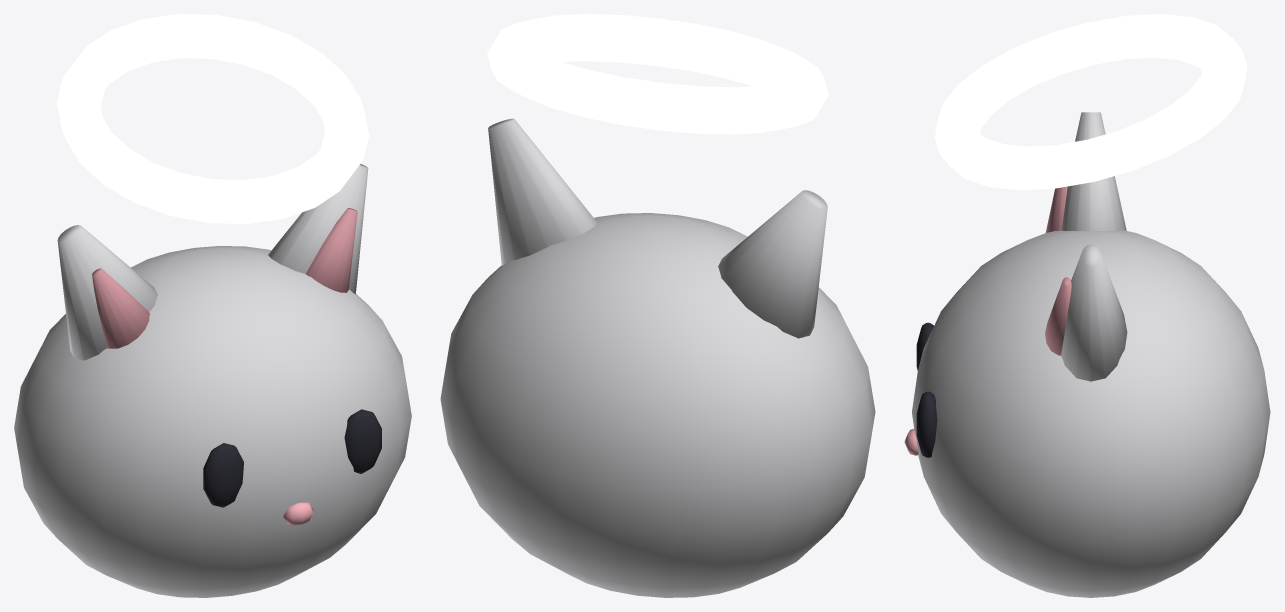
The model's file is nine_lives.glb.
3 renders of one model, left to right at view 1: azimuth 30°, elevation 25°; view 2: azimuth 150°, elevation 25°; view 3: azimuth 270°, elevation 25°, orthographic. The views are drawn at different scales.
Visible parts, largest first — view 1: nine_lives; view 2: nine_lives; view 3: nine_lives.
Part boxes in pixels (bbox=[...]): nine_lives: bbox=[14, 14, 411, 597]; nine_lives: bbox=[440, 14, 875, 597]; nine_lives: bbox=[904, 14, 1270, 597].
Bounding box in the file's own units: 0.52 × 0.7092 × 0.449.
